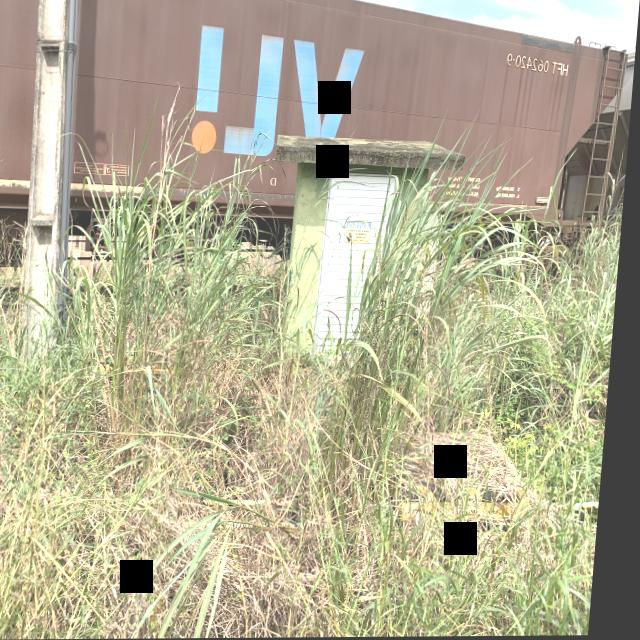hopper: (0, 0, 632, 279), (603, 32, 637, 283)
